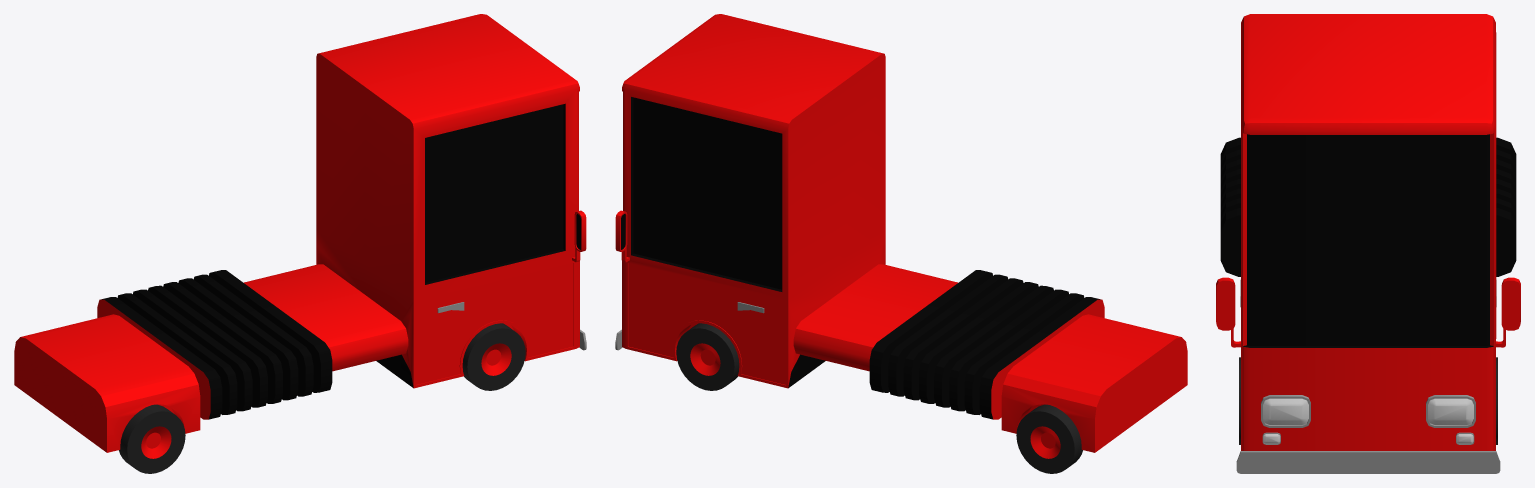
File: truck1.fbx
3 views of the same model, side by side, from view 1: azimuth 30°, elevation 25°; view 2: azimuth 150°, elevation 25°; view 3: azimuth 270°, elevation 25° (orthographic). The views are drawn at different scales.
Parts seen in each view (by area): view 1: truck1; view 2: truck1; view 3: truck1.
Part boxes in pixels (bbox=[...]): truck1: bbox=[14, 14, 586, 473]; truck1: bbox=[615, 14, 1187, 473]; truck1: bbox=[1216, 14, 1520, 473].
Bounding box in the file's own units: 1218 × 701 × 517.
